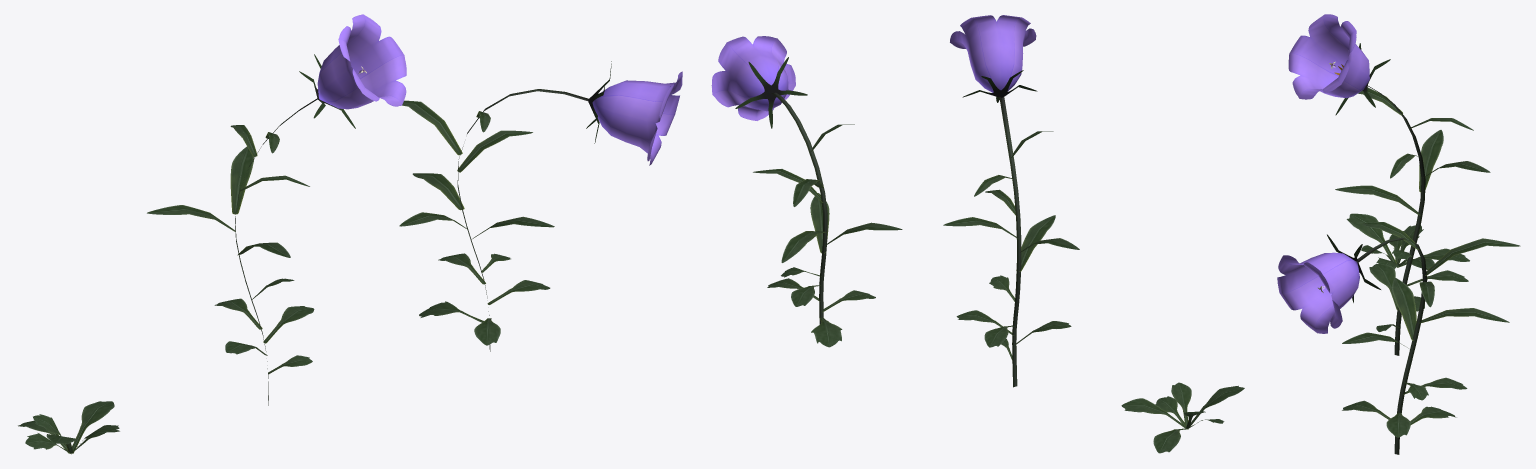
Rendered from EarleafBellflower_Sprigs.glb.
The picture shows the model from 3 angles, left to right: view 1: azimuth 30°, elevation 25°; view 2: azimuth 150°, elevation 25°; view 3: azimuth 270°, elevation 25°; orthographic projection. The views are drawn at different scales.
Visible parts, largest first — view 1: EarleafBellflower_Sprig_02, EarleafBellflower_Sprig_01, EarleafBellflower_Sprig_03; view 2: EarleafBellflower_Sprig_01, EarleafBellflower_Sprig_02, EarleafBellflower_Sprig_03; view 3: EarleafBellflower_Sprig_01, EarleafBellflower_Sprig_02, EarleafBellflower_Sprig_03.
Boxes of the visible parts, x1,y1,x2,y2 form: EarleafBellflower_Sprig_02: (147, 14, 406, 405); EarleafBellflower_Sprig_01: (399, 61, 682, 351); EarleafBellflower_Sprig_03: (18, 401, 119, 454); EarleafBellflower_Sprig_01: (711, 36, 902, 347); EarleafBellflower_Sprig_02: (943, 15, 1079, 387); EarleafBellflower_Sprig_03: (1121, 382, 1244, 453); EarleafBellflower_Sprig_01: (1277, 222, 1520, 454); EarleafBellflower_Sprig_02: (1288, 14, 1490, 355); EarleafBellflower_Sprig_03: (1346, 213, 1469, 269).
Size of the model in its own units: 0.1923 by 0.1166 by 0.0719.
Materials: 1 (1 with a texture image).
